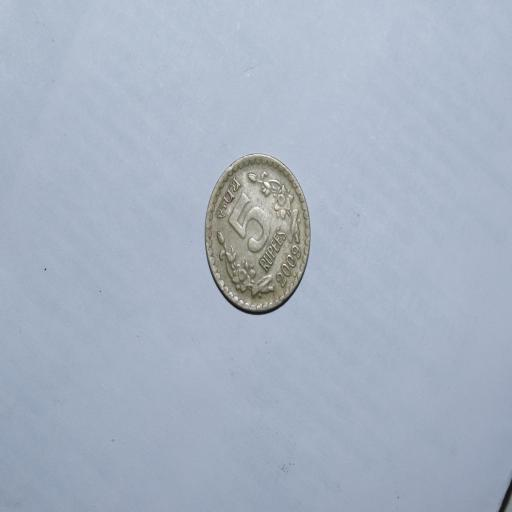rupee5: (201, 152, 311, 319)
